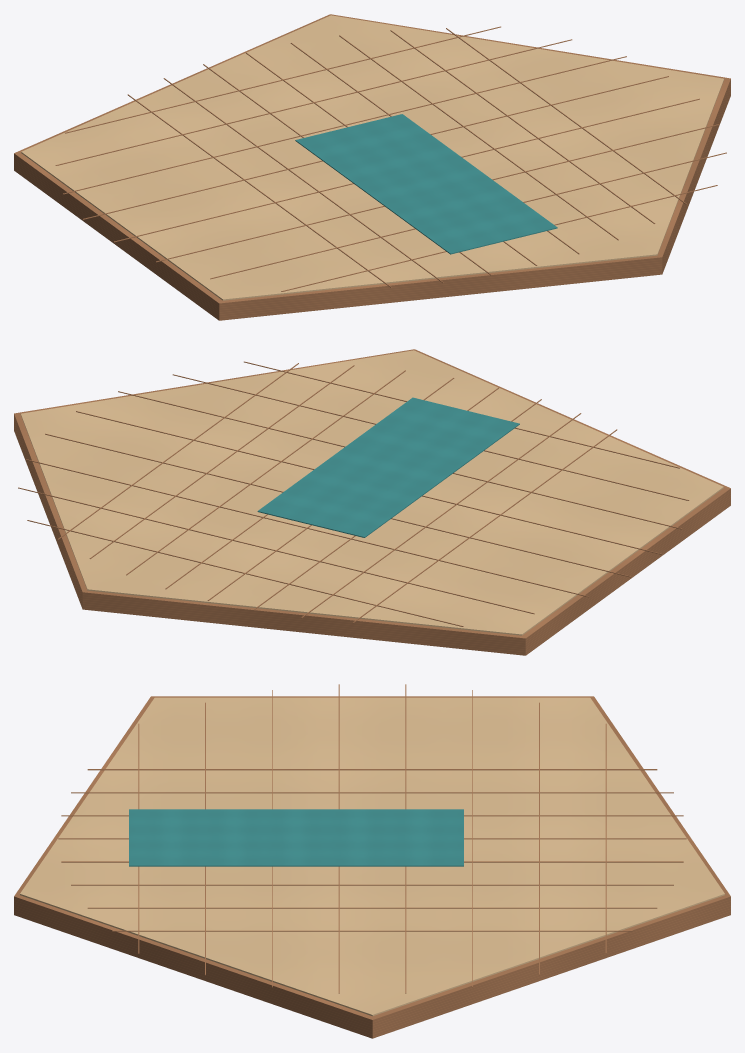
Rendered from atlas100-s095-a07.lod1.glb.
3 views of the same model, one above another, from view 1: azimuth 30°, elevation 25°; view 2: azimuth 150°, elevation 25°; view 3: azimuth 270°, elevation 25° (orthographic). The views are drawn at different scales.
Parts seen in each view (by area): view 1: atlas100-s095-a07:part-001, atlas100-s095-a07:part-000, atlas100-s095-a07:part-021, atlas100-s095-a07:part-015, atlas100-s095-a07:part-014, atlas100-s095-a07:part-016, atlas100-s095-a07:part-017, atlas100-s095-a07:part-018, atlas100-s095-a07:part-013, atlas100-s095-a07:part-019, atlas100-s095-a07:part-009, atlas100-s095-a07:part-005 (+3 smaller); view 2: atlas100-s095-a07:part-001, atlas100-s095-a07:part-000, atlas100-s095-a07:part-021, atlas100-s095-a07:part-015, atlas100-s095-a07:part-014, atlas100-s095-a07:part-016, atlas100-s095-a07:part-017, atlas100-s095-a07:part-018, atlas100-s095-a07:part-013, atlas100-s095-a07:part-019, atlas100-s095-a07:part-009, atlas100-s095-a07:part-005 (+3 smaller); view 3: atlas100-s095-a07:part-001, atlas100-s095-a07:part-021, atlas100-s095-a07:part-000, atlas100-s095-a07:part-009, atlas100-s095-a07:part-005, atlas100-s095-a07:part-004, atlas100-s095-a07:part-010, atlas100-s095-a07:part-011, atlas100-s095-a07:part-007, atlas100-s095-a07:part-008, atlas100-s095-a07:part-006.
Boxes of the visible parts, box(x1,y1,x2,y2) form: atlas100-s095-a07:part-001: box(21, 15, 724, 300); atlas100-s095-a07:part-000: box(14, 14, 730, 320); atlas100-s095-a07:part-021: box(295, 114, 557, 254); atlas100-s095-a07:part-015: box(63, 56, 626, 194); atlas100-s095-a07:part-014: box(55, 39, 572, 165); atlas100-s095-a07:part-016: box(82, 76, 668, 219); atlas100-s095-a07:part-017: box(114, 98, 699, 242); atlas100-s095-a07:part-018: box(156, 124, 719, 262); atlas100-s095-a07:part-013: box(65, 26, 500, 133); atlas100-s095-a07:part-019: box(210, 152, 726, 279); atlas100-s095-a07:part-009: box(339, 35, 618, 240); atlas100-s095-a07:part-005: box(163, 78, 443, 283); atlas100-s095-a07:part-001: box(20, 350, 723, 635); atlas100-s095-a07:part-000: box(14, 349, 730, 655); atlas100-s095-a07:part-021: box(257, 397, 519, 537); atlas100-s095-a07:part-015: box(25, 459, 588, 597); atlas100-s095-a07:part-014: box(18, 487, 534, 614); atlas100-s095-a07:part-016: box(45, 433, 630, 577); atlas100-s095-a07:part-017: box(76, 411, 662, 554); atlas100-s095-a07:part-018: box(118, 391, 681, 529); atlas100-s095-a07:part-013: box(27, 520, 463, 626); atlas100-s095-a07:part-019: box(172, 374, 689, 500); atlas100-s095-a07:part-009: box(126, 370, 405, 575); atlas100-s095-a07:part-005: box(301, 413, 581, 618); atlas100-s095-a07:part-001: box(20, 697, 724, 1016); atlas100-s095-a07:part-021: box(129, 809, 463, 866); atlas100-s095-a07:part-000: box(14, 696, 730, 1038); atlas100-s095-a07:part-009: box(71, 884, 673, 885); atlas100-s095-a07:part-005: box(71, 792, 673, 793); atlas100-s095-a07:part-004: box(87, 769, 657, 770); atlas100-s095-a07:part-010: box(87, 907, 657, 908); atlas100-s095-a07:part-011: box(112, 930, 632, 931); atlas100-s095-a07:part-007: box(58, 838, 686, 839); atlas100-s095-a07:part-008: box(61, 861, 683, 862); atlas100-s095-a07:part-006: box(61, 815, 683, 816).
Size of the model in its own units: 12.99 by 0.404 by 11.81.
Materials: 3 (3 with a texture image).
